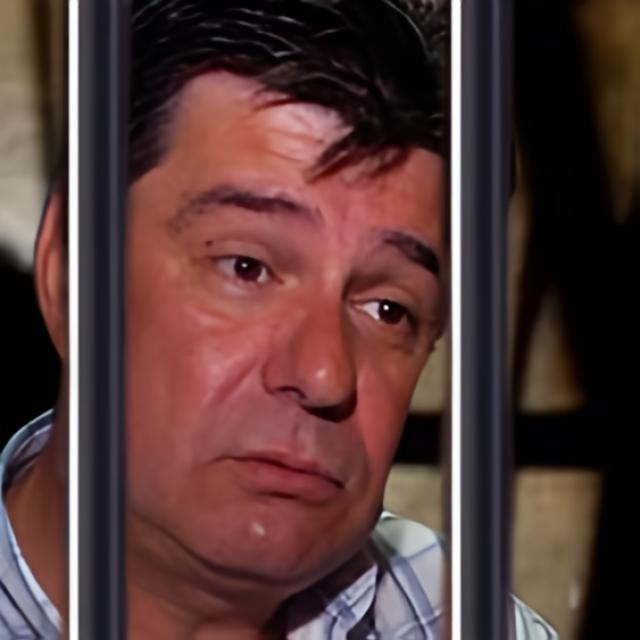sad: (122, 57, 450, 574)
